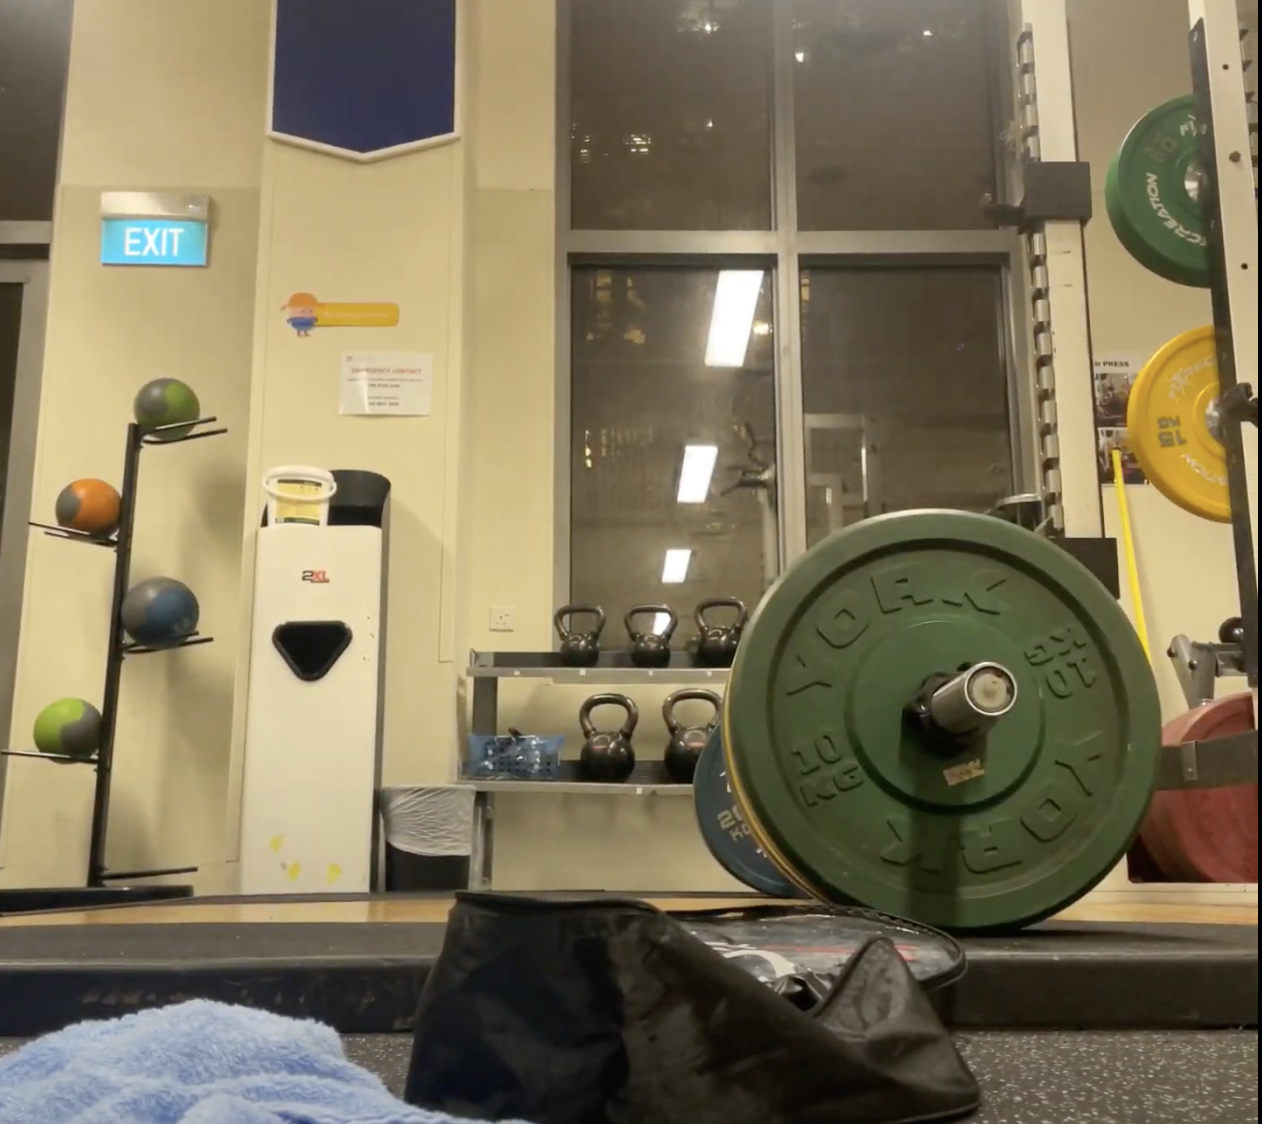barbell: (963, 665, 1008, 715)
